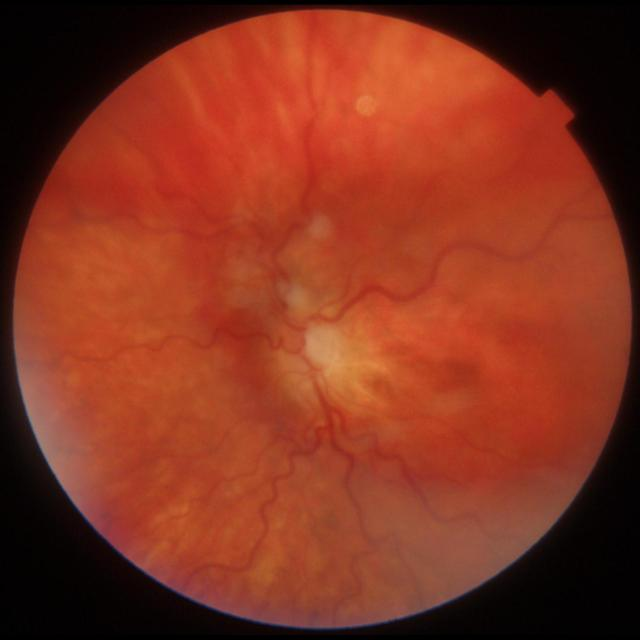OC: (300, 333, 322, 359)
OD: (278, 320, 338, 382)
